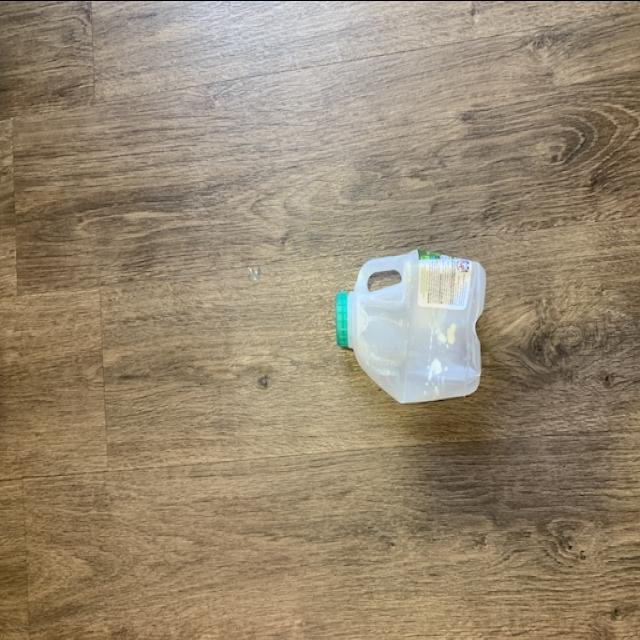litter: (331, 244, 498, 398)
